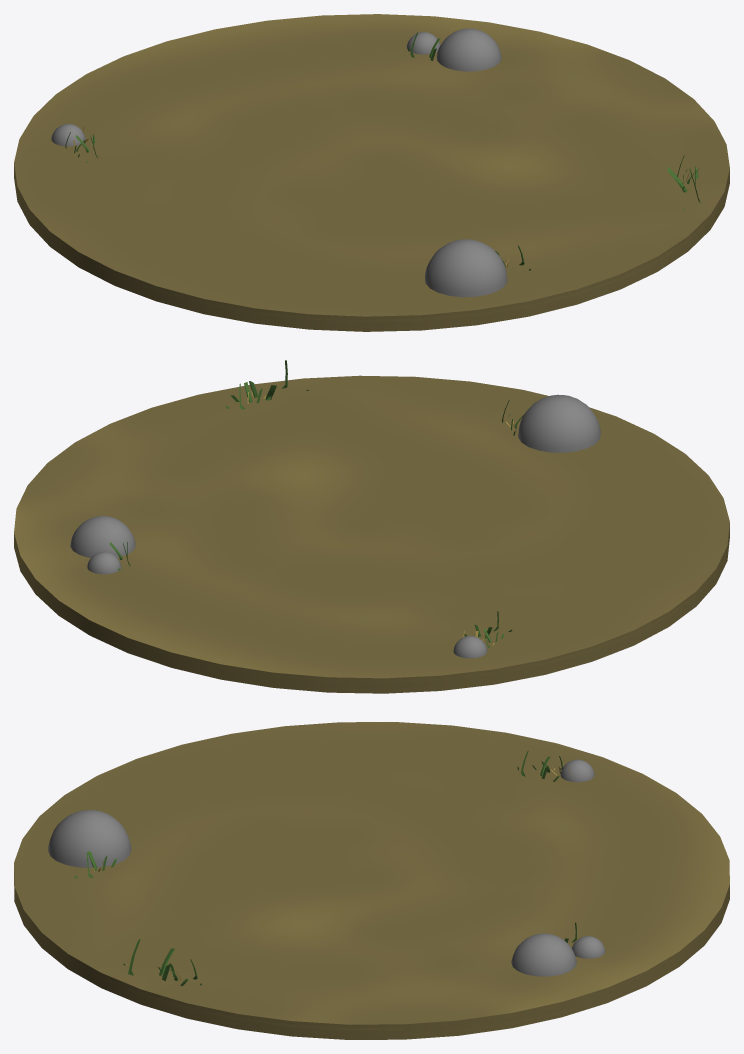
File: Bumpmapped_Well_base.fbx
The picture shows the model from 3 angles, top to bottom: view 1: azimuth 30°, elevation 25°; view 2: azimuth 150°, elevation 25°; view 3: azimuth 270°, elevation 25°; orthographic projection.
Parts seen in each view (by area): view 1: pCylinder1, pSphere1, pasted__pSphere1, pasted__pasted__pasted__pSphere1, pasted__pasted__pSphere1; view 2: pCylinder1, pSphere1, pasted__pSphere1, pasted__pasted__pasted__pSphere1, pasted__pasted__pSphere1; view 3: pCylinder1, pSphere1, pasted__pSphere1, pasted__pasted__pasted__pSphere1, pasted__pasted__pSphere1.
Boxes of the visible parts, x1,y1,x2,y2 form: pCylinder1: [14, 14, 729, 331]; pSphere1: [425, 239, 507, 297]; pasted__pSphere1: [436, 28, 501, 71]; pasted__pasted__pasted__pSphere1: [51, 124, 85, 146]; pasted__pasted__pSphere1: [406, 32, 440, 54]; pCylinder1: [14, 375, 729, 693]; pSphere1: [518, 394, 600, 452]; pasted__pSphere1: [70, 516, 135, 557]; pasted__pasted__pasted__pSphere1: [453, 636, 487, 658]; pasted__pasted__pSphere1: [87, 551, 121, 574]; pCylinder1: [14, 722, 729, 1039]; pSphere1: [48, 810, 131, 867]; pasted__pSphere1: [511, 933, 576, 976]; pasted__pasted__pasted__pSphere1: [560, 759, 594, 782]; pasted__pasted__pSphere1: [572, 936, 605, 958].
Size of the model in its own units: 14.4 by 1.54 by 14.4.
Materials: 15 (11 with a texture image).
